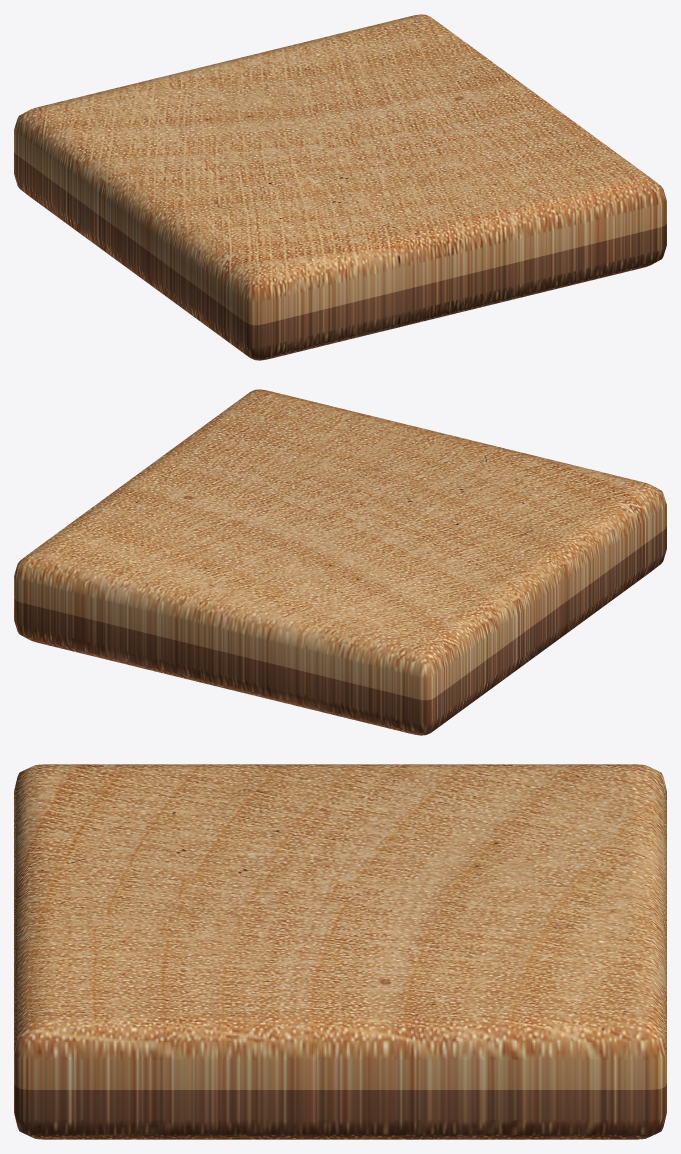
Rendered from SquareHighPoly.FBX.
The picture shows the model from 3 angles, top to bottom: view 1: azimuth 30°, elevation 25°; view 2: azimuth 150°, elevation 25°; view 3: azimuth 270°, elevation 25°; orthographic projection. The views are drawn at different scales.
Visible parts, largest first — view 1: SquareHighPoly; view 2: SquareHighPoly; view 3: SquareHighPoly.
Boxes of the visible parts, x1,y1,x2,y2 form: SquareHighPoly: (14, 14, 666, 360); SquareHighPoly: (14, 389, 666, 735); SquareHighPoly: (14, 764, 666, 1139).
Bounding box in the file's own units: 10 × 2 × 10.
